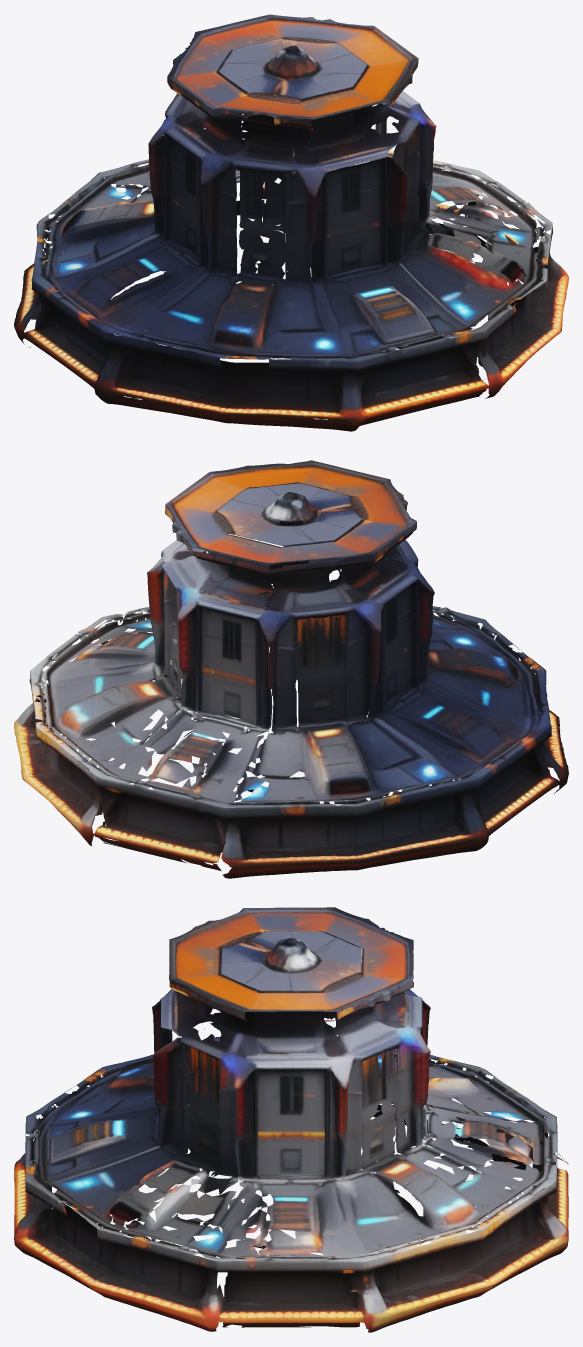
Rendered from citadel.glb.
3 renders of one model, top to bottom at view 1: azimuth 30°, elevation 25°; view 2: azimuth 150°, elevation 25°; view 3: azimuth 270°, elevation 25°, orthographic. The views are drawn at different scales.
Visible parts, largest first — view 1: geometry_0.203; view 2: geometry_0.203; view 3: geometry_0.203.
Boxes of the visible parts, left/top/right/bottom form: geometry_0.203: left=14, top=14, right=568, bottom=431; geometry_0.203: left=14, top=460, right=568, bottom=878; geometry_0.203: left=14, top=907, right=568, bottom=1332.
Size of the model in its own units: 4.9 by 3 by 4.9.
Materials: 1 (1 with a texture image).
